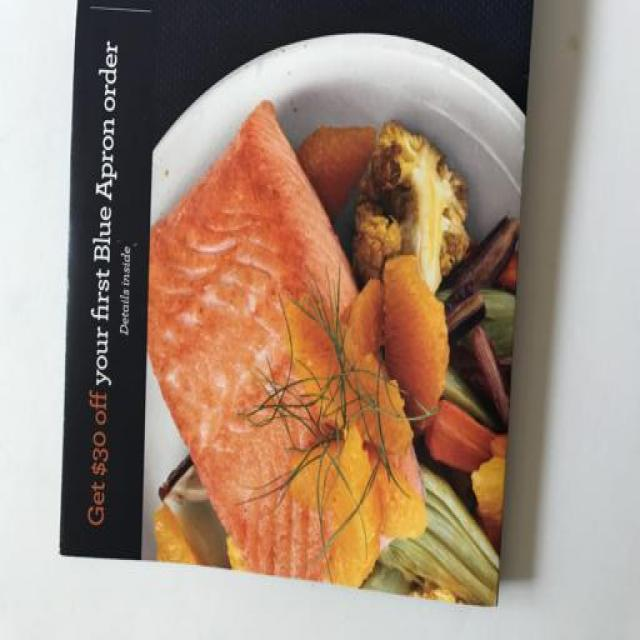paper: (18, 1, 577, 554)
